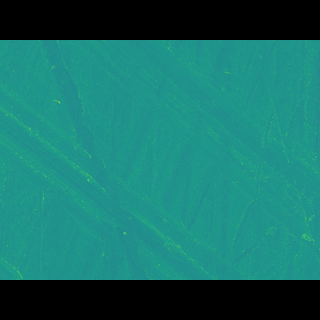Loch: (62, 69, 320, 231), (0, 102, 250, 250)
